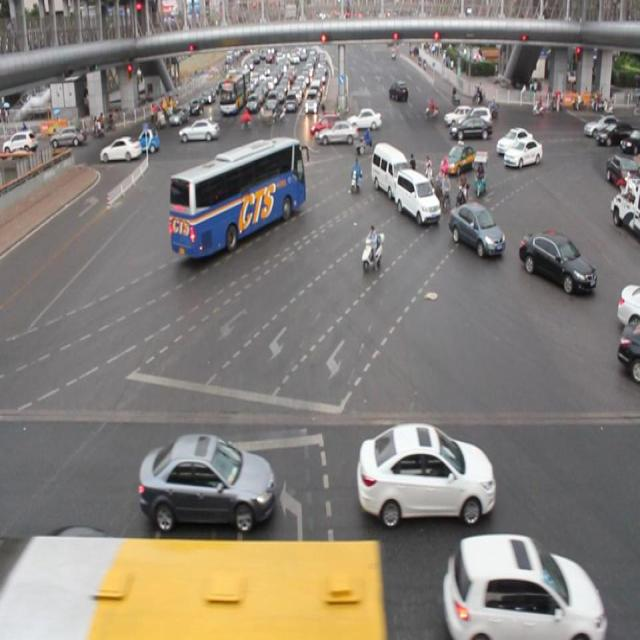car: (443, 533, 604, 640), (357, 419, 493, 522), (15, 521, 146, 620), (138, 435, 275, 527), (521, 223, 596, 295), (446, 200, 504, 257), (618, 323, 640, 382), (616, 280, 640, 330), (439, 141, 472, 177), (451, 117, 493, 141), (504, 140, 542, 166), (101, 138, 141, 162), (496, 126, 531, 150), (321, 123, 356, 145), (311, 112, 337, 138)
truck: (396, 165, 439, 222), (372, 142, 407, 196)
van: (1, 532, 385, 640), (171, 135, 305, 262)
